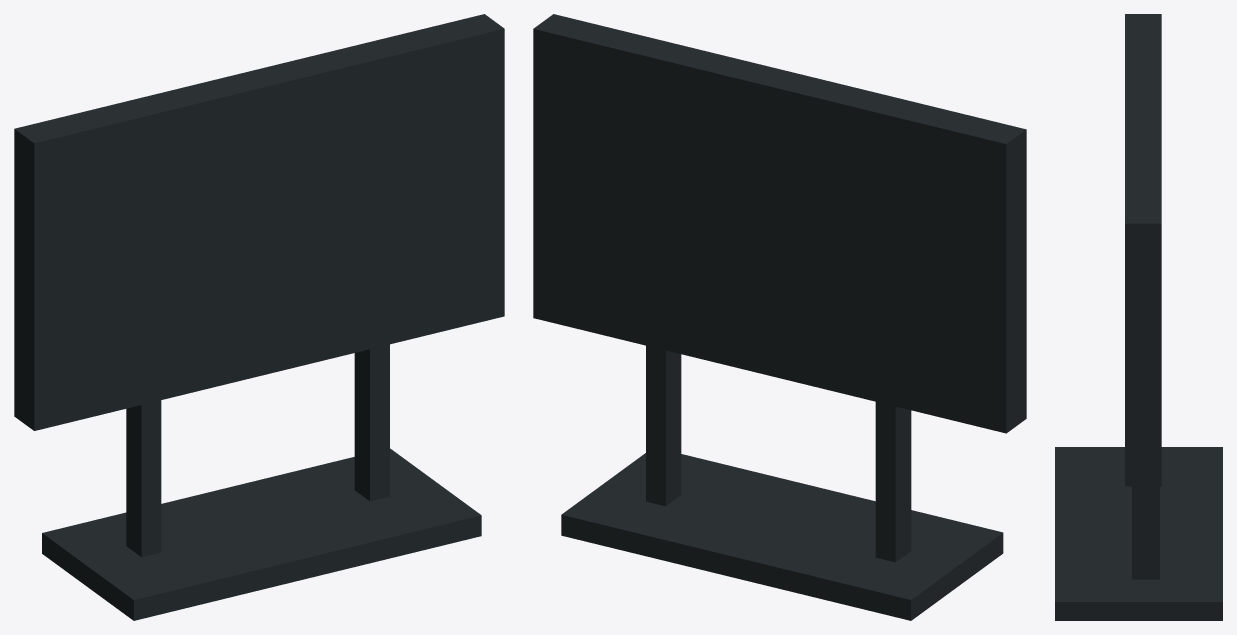
File: pantallaPartido.obj
3 renders of one model, left to right at view 1: azimuth 30°, elevation 25°; view 2: azimuth 150°, elevation 25°; view 3: azimuth 270°, elevation 25°, orthographic. The views are drawn at different scales.
Visible parts, largest first — view 1: PantallaPartido; view 2: PantallaPartido; view 3: PantallaPartido.
Boxes of the visible parts, box(x1,y1,x2,y2) form: PantallaPartido: box(14, 14, 504, 620); PantallaPartido: box(533, 14, 1026, 620); PantallaPartido: box(1055, 14, 1222, 620).
Bounding box in the file's own units: 2.84 × 2.68 × 0.96.
Materials: 1 (1 with a texture image).
